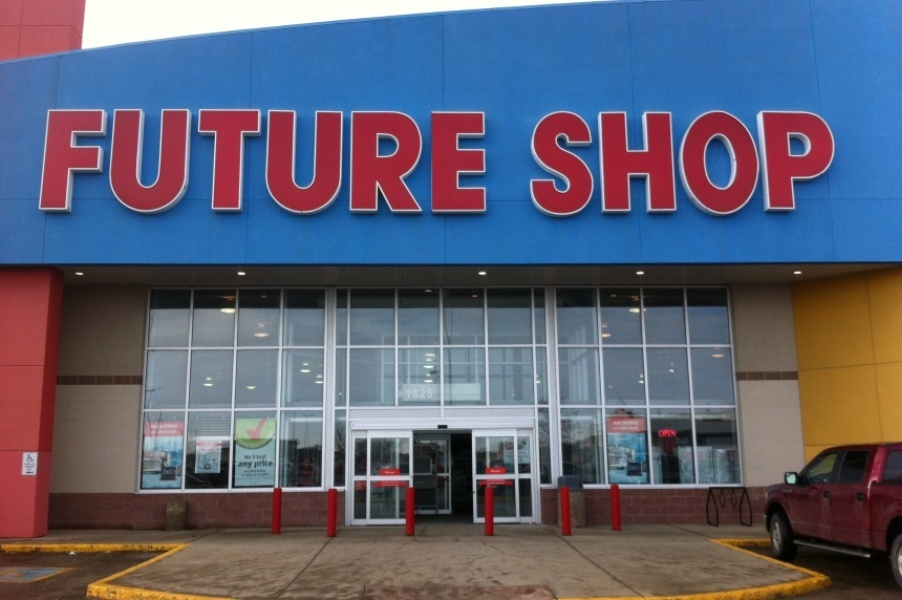text: (49, 105, 64, 214), (65, 105, 80, 214), (81, 105, 96, 214), (97, 105, 112, 214), (113, 105, 128, 214), (129, 105, 144, 214), (145, 105, 160, 214), (161, 105, 176, 214), (177, 105, 192, 214), (193, 105, 208, 214), (209, 105, 224, 214), (225, 105, 240, 214), (241, 105, 256, 214), (257, 105, 272, 214), (273, 105, 288, 214), (289, 105, 304, 214), (305, 105, 320, 214), (321, 105, 336, 214), (337, 105, 352, 214), (353, 105, 368, 214), (369, 105, 384, 214), (385, 105, 400, 214), (401, 105, 416, 214), (417, 105, 432, 214), (433, 105, 448, 214), (449, 105, 464, 214), (465, 105, 480, 214), (529, 109, 544, 216), (545, 109, 560, 216), (561, 109, 576, 216), (577, 109, 592, 216), (593, 109, 608, 216), (609, 109, 624, 216), (625, 109, 640, 216), (641, 109, 656, 216), (657, 109, 672, 216), (673, 109, 688, 216), (689, 109, 704, 216), (705, 109, 720, 216), (721, 109, 736, 216), (737, 109, 752, 216), (753, 109, 768, 216), (769, 109, 784, 216), (785, 109, 800, 216), (801, 109, 816, 216), (817, 109, 832, 216), (481, 105, 491, 214), (833, 109, 842, 216), (625, 420, 639, 432), (657, 428, 672, 439), (417, 389, 432, 399), (257, 460, 273, 469), (612, 420, 624, 432), (404, 389, 416, 399), (241, 470, 256, 478), (257, 470, 271, 478), (47, 105, 48, 214), (241, 462, 253, 469), (673, 428, 679, 439), (24, 463, 32, 471), (254, 460, 256, 469), (33, 463, 35, 471), (238, 462, 240, 469), (433, 389, 434, 399)
